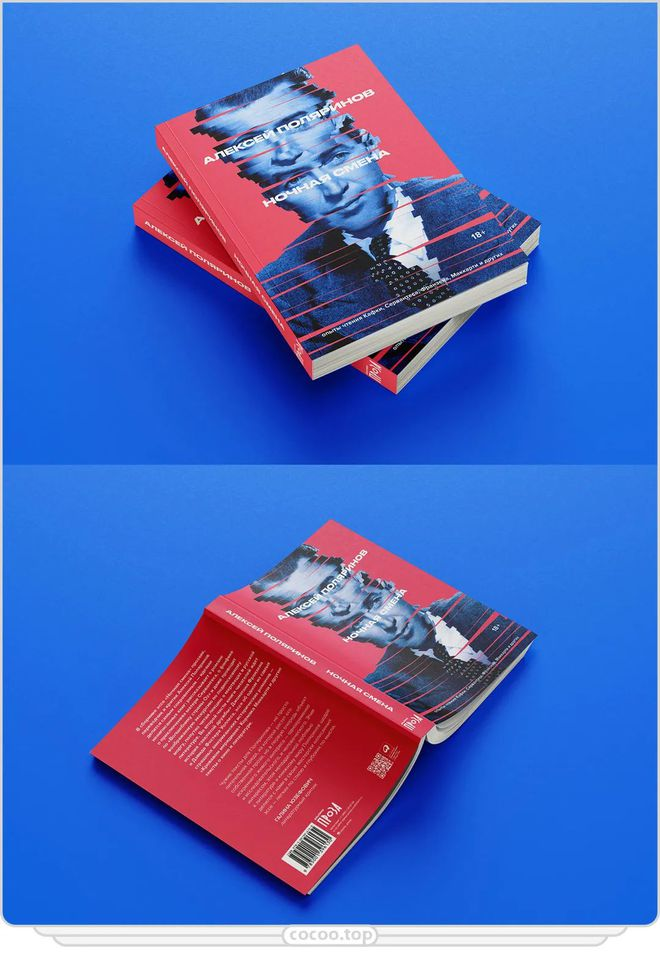book: (93, 510, 532, 899), (148, 43, 533, 378)
